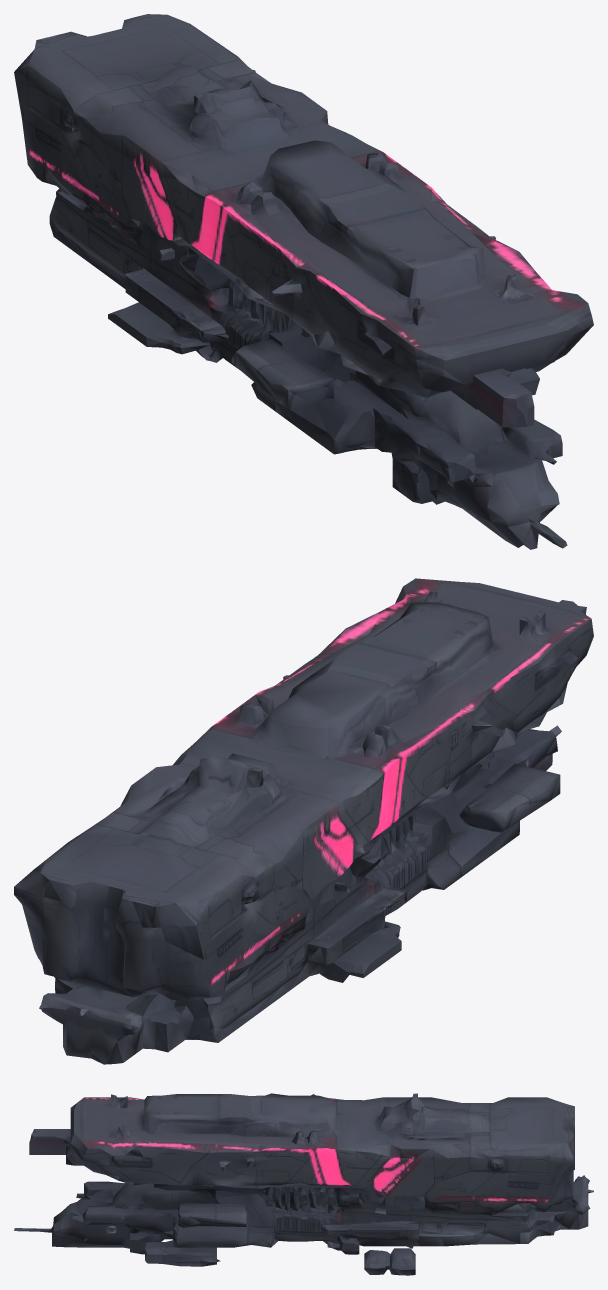
The model's file is ipc.glb.
3 renders of one model, top to bottom at view 1: azimuth 30°, elevation 25°; view 2: azimuth 150°, elevation 25°; view 3: azimuth 270°, elevation 25°, orthographic. The views are drawn at different scales.
Visible parts, largest first — view 1: IPC_Cruiser; view 2: IPC_Cruiser; view 3: IPC_Cruiser.
Part boxes in pixels (x1,y1,x2,y2): IPC_Cruiser: [14, 14, 593, 549]; IPC_Cruiser: [14, 578, 593, 1064]; IPC_Cruiser: [14, 1093, 593, 1275].
Size of the model in its own units: 8.86 by 7.07 by 25.4.
1 material, 1 textured.
